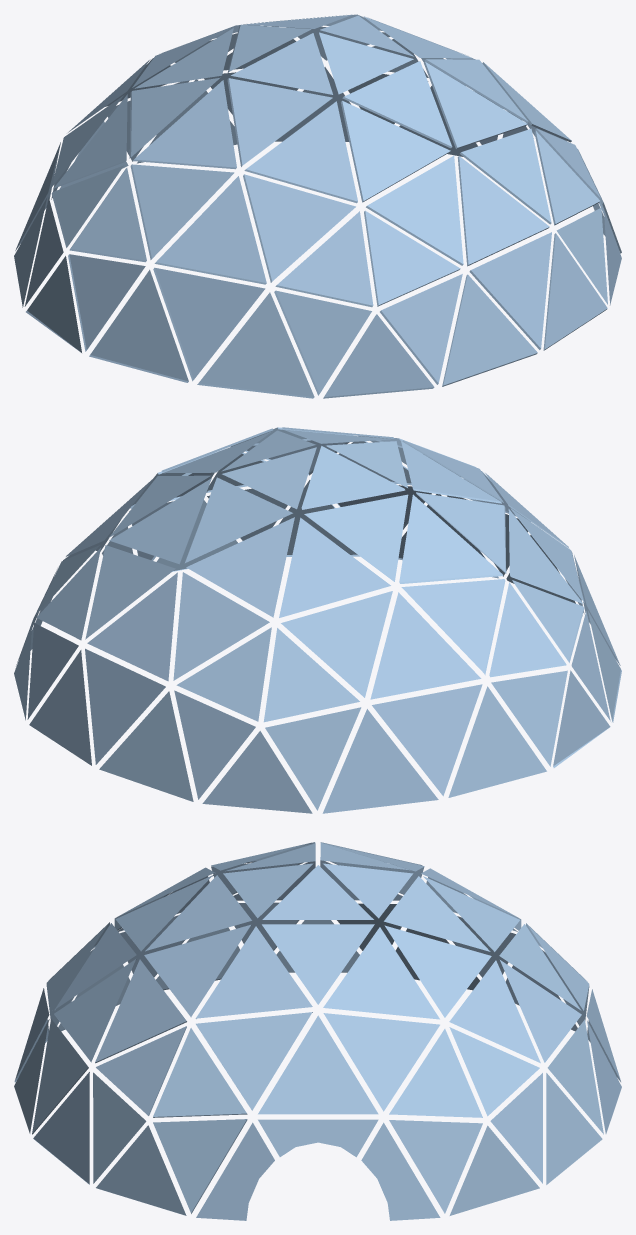
File: cristales.obj
3 renders of one model, top to bottom at view 1: azimuth 30°, elevation 25°; view 2: azimuth 150°, elevation 25°; view 3: azimuth 270°, elevation 25°, orthographic.
Parts seen in each view (by area): view 1: polySurface83 polySurface35; view 2: polySurface83 polySurface35; view 3: polySurface83 polySurface35.
Part boxes in pixels (x1=…): polySurface83 polySurface35: x1=14, y1=14, x2=621, y2=398; polySurface83 polySurface35: x1=14, y1=427, x2=621, y2=813; polySurface83 polySurface35: x1=14, y1=842, x2=621, y2=1220.
Size of the model in its own units: 13.86 by 6.19 by 14.3.
1 material, 1 textured.
